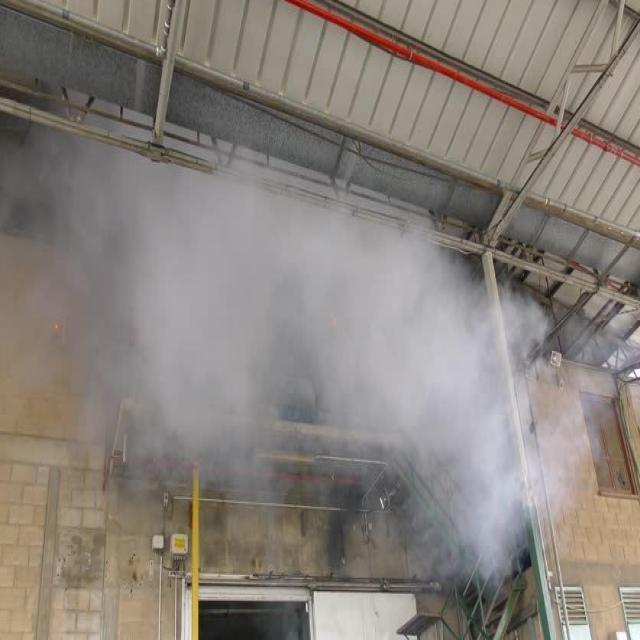fire: (70, 162, 540, 577)
